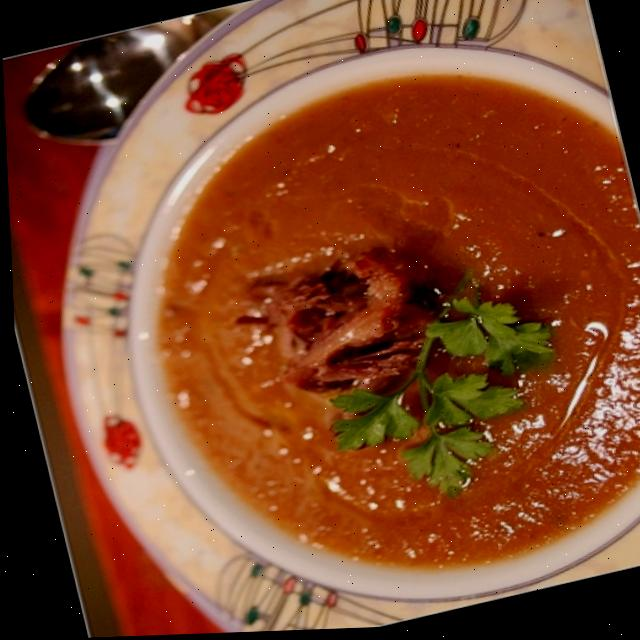汤锅炖物: (63, 40, 640, 638)
